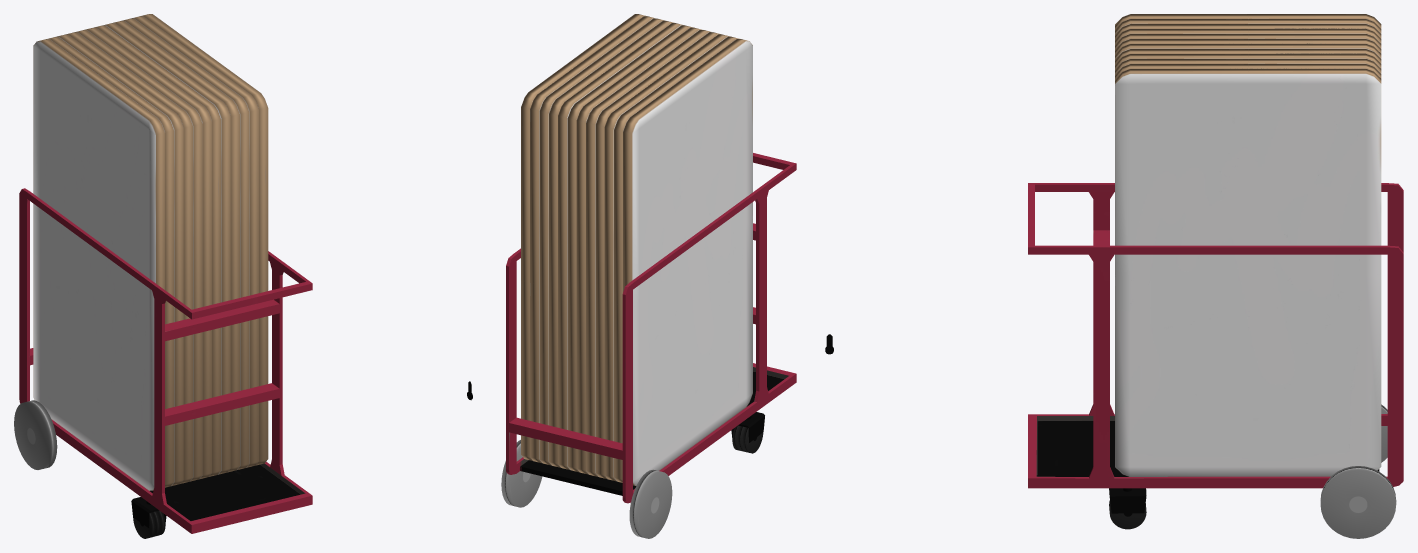
File: Trolley2.gltf
3 views of the same model, side by side, from view 1: azimuth 30°, elevation 25°; view 2: azimuth 150°, elevation 25°; view 3: azimuth 270°, elevation 25° (orthographic). The views are drawn at different scales.
Visible parts, largest first — view 1: Board1.005, Stroller, Board1.001, Board2, Board1.002, Board2.001, Board3, Board3.001, Board1, Board4.001, Board4, Board1.003 (+2 smaller); view 2: Board1.005, Stroller, Board1.001, Board3.001, Board1.002, Board2.001, Board2, Board3, Board1.003, Board4.001, Board1, Board4 (+4 smaller); view 3: Board4, Stroller, Wheel.008, Board1, Board1.003, Board4.001, Board1.004, Board2, Board2.001, Board3, Board1.001, Board1.002 (+3 smaller).
Boxes of the visible parts, left/top/right/bottom form: Board1.005: left=33, top=39, right=164, bottom=490; Stroller: left=19, top=188, right=312, bottom=533; Board1.001: left=102, top=23, right=230, bottom=474; Board2: left=121, top=18, right=249, bottom=469; Board1.002: left=56, top=34, right=183, bottom=486; Board2.001: left=75, top=30, right=202, bottom=481; Board3: left=131, top=16, right=258, bottom=467; Board3.001: left=84, top=27, right=211, bottom=479; Board1: left=113, top=21, right=239, bottom=472; Board4.001: left=94, top=25, right=221, bottom=476; Board4: left=140, top=14, right=268, bottom=465; Board1.003: left=65, top=32, right=192, bottom=483; Board1.005: left=623, top=39, right=752, bottom=485; Stroller: left=506, top=153, right=796, bottom=503; Board1.001: left=558, top=23, right=683, bottom=470; Board3.001: left=576, top=27, right=702, bottom=474; Board1.002: left=604, top=34, right=730, bottom=481; Board2.001: left=586, top=30, right=712, bottom=476; Board2: left=539, top=18, right=664, bottom=465; Board3: left=530, top=16, right=656, bottom=463; Board1.003: left=595, top=32, right=720, bottom=479; Board4.001: left=567, top=25, right=693, bottom=472; Board1: left=549, top=20, right=674, bottom=467; Board4: left=521, top=14, right=646, bottom=460; Board4: left=1115, top=68, right=1381, bottom=476; Stroller: left=1028, top=183, right=1403, bottom=488; Wheel.008: left=1320, top=466, right=1396, bottom=538; Board1: left=1115, top=53, right=1381, bottom=68; Board1.003: left=1115, top=28, right=1381, bottom=43; Board4.001: left=1115, top=43, right=1381, bottom=58; Board1.004: left=1115, top=19, right=1381, bottom=33; Board2: left=1115, top=59, right=1381, bottom=73; Board2.001: left=1115, top=34, right=1381, bottom=48; Board3: left=1115, top=64, right=1381, bottom=78; Board1.001: left=1115, top=49, right=1381, bottom=63; Board1.002: left=1115, top=24, right=1381, bottom=38.
Bounding box in the file's own units: 2.94 × 5.99 × 6.86.
20 materials, 20 textured.
